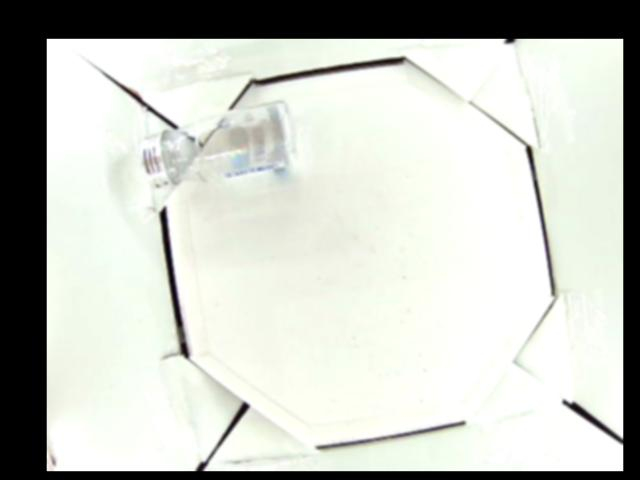Bottle: (137, 102, 298, 187)
